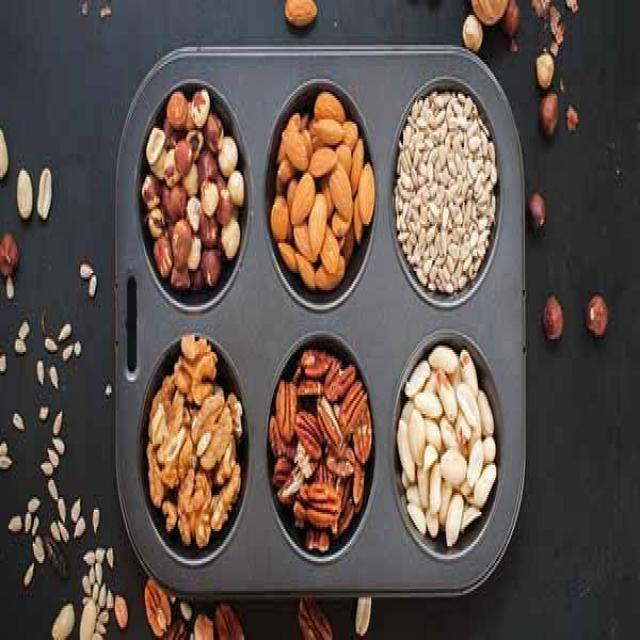Frutta secca: (149, 96, 242, 290), (148, 348, 247, 530), (400, 105, 494, 282), (280, 107, 376, 275), (401, 356, 487, 538), (279, 374, 365, 534)
